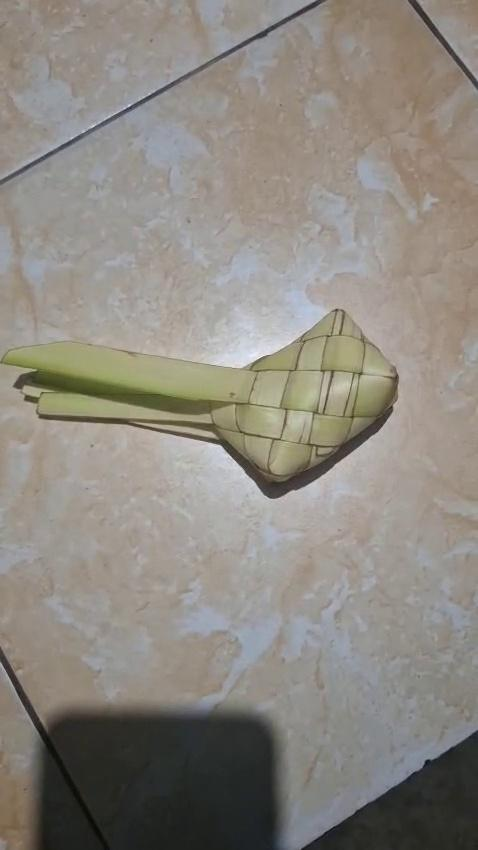Tipat Bantal: (11, 300, 411, 503)
